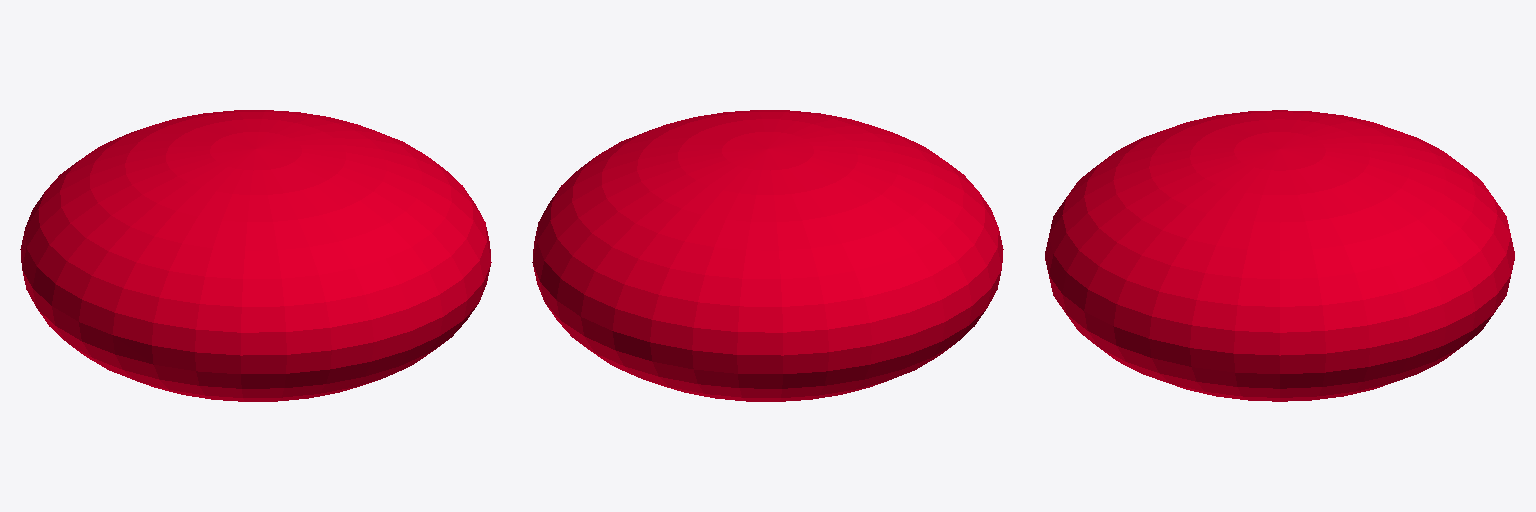
URDF robot description (ellipsoid.urdf):
<?xml version="1.0" ?>
<robot name="ellipsoid.urdf">

  <link name="ellipsoid">
    <contact>
    	<friction_anchor/>
    	   <lateral_friction value="1.0"/>
    </contact>
    <inertial>
      <origin rpy="0 0 0" xyz="0 0 0"/>
       <mass value=".1"/>
       <inertia ixx="1" ixy="0" ixz="0" iyy="1" iyz="0" izz="1"/>
    </inertial>
    <visual>
      <origin rpy="0 0 0" xyz="0 0 0"/>
      <geometry>
				<mesh filename="ellipsoid.obj" scale="1.0 1.0 1.0"/>
      </geometry>
       <material name="red">
        <color rgba="0.9 0 0.2 1.0"/>
      </material>
    </visual>
    <collision>
      <origin rpy="0 0 0" xyz="0 0 0"/>
      <geometry>
				<mesh filename="ellipsoid.obj" scale="1.0 1.0 1.0"/>
      </geometry>
    </collision>
  </link>


</robot>

--- Facts derived from the render (not from the file) ---
The picture shows the robot from 3 angles, left to right: view 1: azimuth 30°, elevation 25°; view 2: azimuth 150°, elevation 25°; view 3: azimuth 270°, elevation 25°; orthographic projection.
Robot: ellipsoid.urdf — 1 links, 0 joints (none); root link ellipsoid; default pose: all joints at 0.
Visible links, largest first — view 1: ellipsoid; view 2: ellipsoid; view 3: ellipsoid.
Boxes of the visible links, x1,y1,x2,y2 form: ellipsoid: (20, 110, 491, 401); ellipsoid: (532, 110, 1003, 401); ellipsoid: (1045, 110, 1514, 401).
Size in the robot's own frame: 0.125 by 0.125 by 0.0625 metres.
1 mesh visuals loaded from 1 distinct referenced files (1 OBJ).